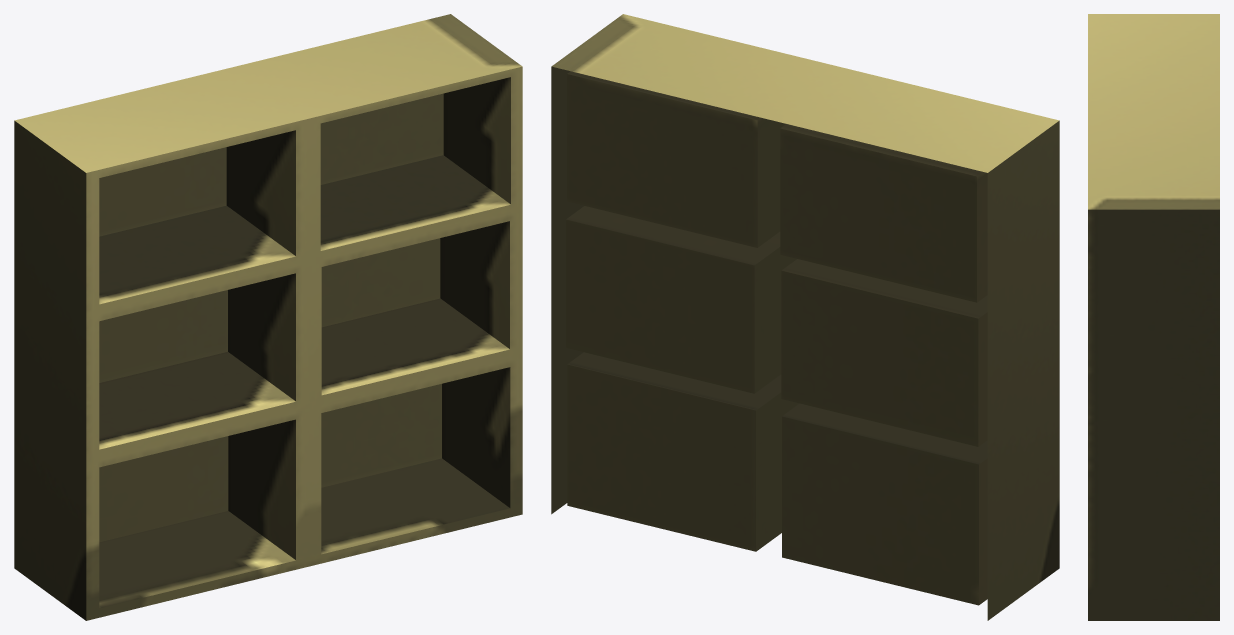
File: Tx_props_medical_bookshelf_double.fbx
3 views of the same model, side by side, from view 1: azimuth 30°, elevation 25°; view 2: azimuth 150°, elevation 25°; view 3: azimuth 270°, elevation 25° (orthographic). The views are drawn at different scales.
Visible parts, largest first — view 1: Tx_props_medical_bookshelf_double; view 2: Tx_props_medical_bookshelf_double; view 3: Tx_props_medical_bookshelf_double.
Part boxes in pixels (<box>): Tx_props_medical_bookshelf_double: <box>14,14,522,620</box>; Tx_props_medical_bookshelf_double: <box>551,14,1059,620</box>; Tx_props_medical_bookshelf_double: <box>1088,14,1219,620</box>.
Bounding box in the file's own units: 15.33 × 15.03 × 4.37.
